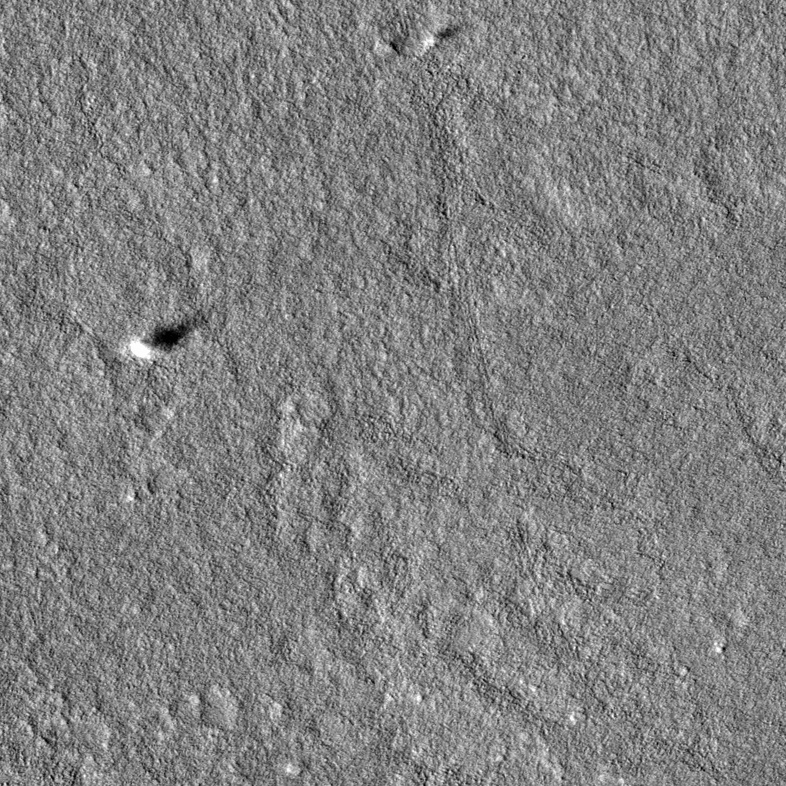dust_devil: (126, 312, 209, 364), (425, 23, 462, 49)
